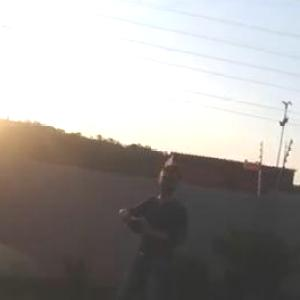follow: (110, 154, 194, 299)
